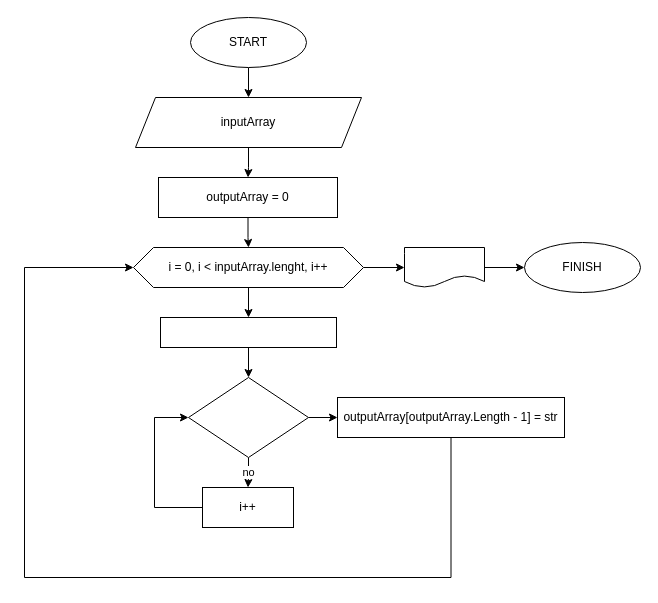
This 658x603 diagram has some shape labels left out. Here are the shapes that lost their labels. From the top down, the box of each, then its label:
(404, 246, 484, 288): outputArray
(160, 316, 336, 348): str = inputArray[i]
(188, 376, 308, 458): str.lenght <= 3
